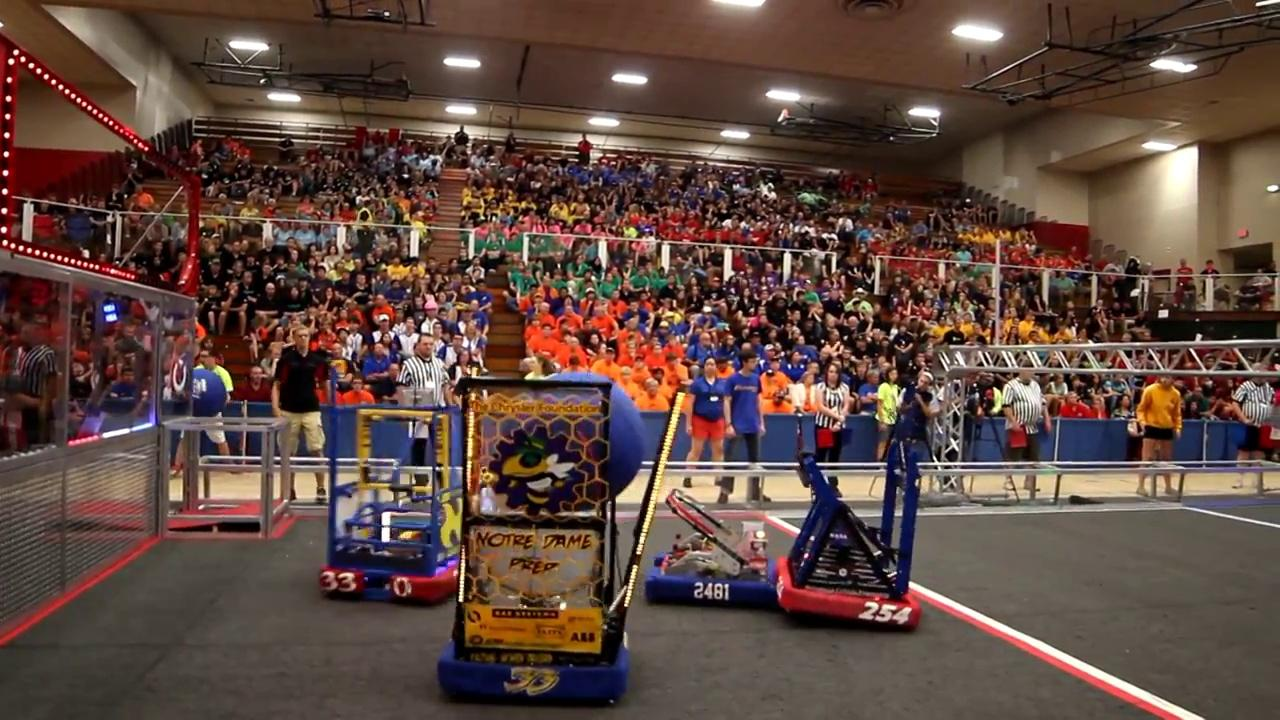robot: (432, 377, 691, 712), (774, 396, 933, 637), (312, 374, 465, 609), (646, 486, 780, 615)
